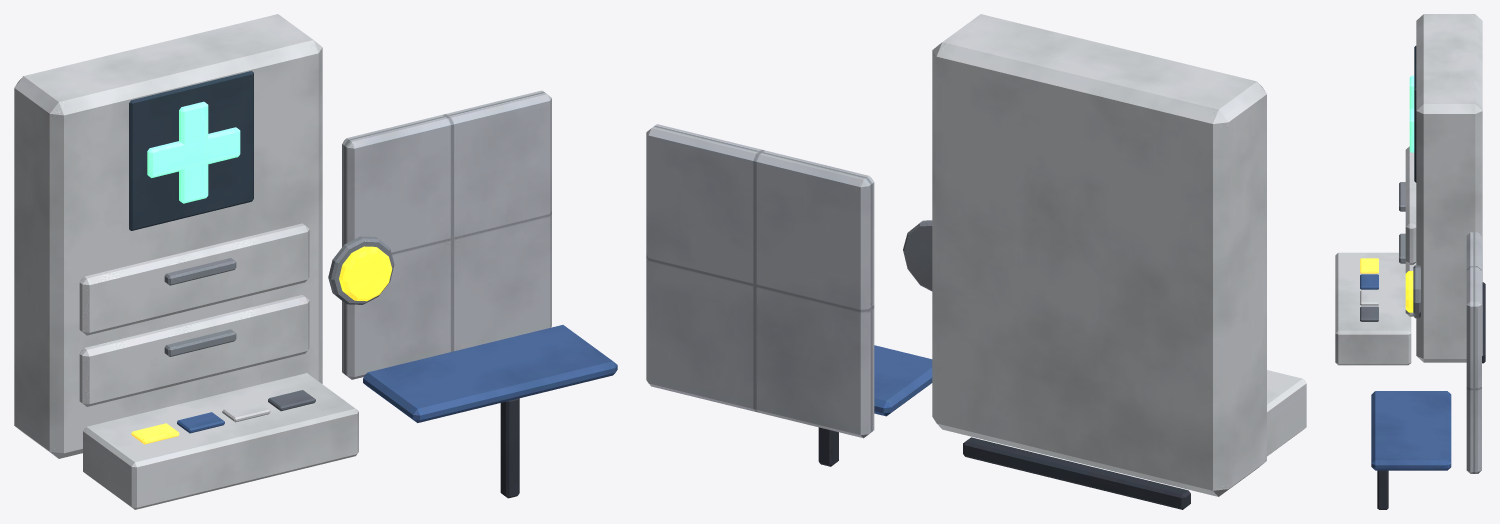
Rendered from patch-up-station.glb.
3 views of the same model, side by side, from view 1: azimuth 30°, elevation 25°; view 2: azimuth 150°, elevation 25°; view 3: azimuth 270°, elevation 25° (orthographic). The views are drawn at different scales.
Visible parts, largest first — view 1: Cabinet, SeatWall, DrawerOpen, Seat, Drawer0, Drawer1, PlusPlate, PlusH, PlusV, HelpButton, SeatLeg, HelpButtonRim (+2 smaller); view 2: Cabinet, SeatWall, SeatHinge, Seat, DrawerOpen, HelpButtonRim, SeatLeg; view 3: Cabinet, DrawerOpen, Seat, SeatWall, Drawer0, SeatLeg, HelpButtonRim, PlusPlate, HelpButton, SeatHinge, Patch3, Patch0 (+5 smaller).
Part boxes in pixels (x1,y1,x2,y2): Cabinet: (14,14,322,458); SeatWall: (342,90,551,379); DrawerOpen: (83,373,358,509); Seat: (363,325,617,422); Drawer0: (79,223,309,335); Drawer1: (79,295,309,406); PlusPlate: (129,71,253,230); PlusH: (147,127,240,177); PlusV: (179,101,208,203); HelpButton: (339,246,392,301); SeatLeg: (500,398,519,498); HelpButtonRim: (328,236,394,304); Cabinet: (932,14,1266,496); SeatWall: (646,124,874,438); SeatHinge: (963,437,1190,509); Seat: (874,345,932,416); DrawerOpen: (1267,370,1306,456); HelpButtonRim: (903,220,932,291); SeatLeg: (818,427,838,466); Cabinet: (1416,14,1482,362); DrawerOpen: (1335,252,1411,365); Seat: (1371,391,1451,470); SeatWall: (1466,232,1481,473); Drawer0: (1405,146,1416,264); SeatLeg: (1377,470,1388,509); HelpButtonRim: (1413,265,1420,318); PlusPlate: (1414,46,1416,182); HelpButton: (1405,271,1413,312); SeatHinge: (1482,282,1485,363); Patch3: (1360,306,1378,321); Patch0: (1360,258,1378,273).
Bounding box in the file's own units: 2.35 × 2 × 0.79.
10 materials, 10 textured.
